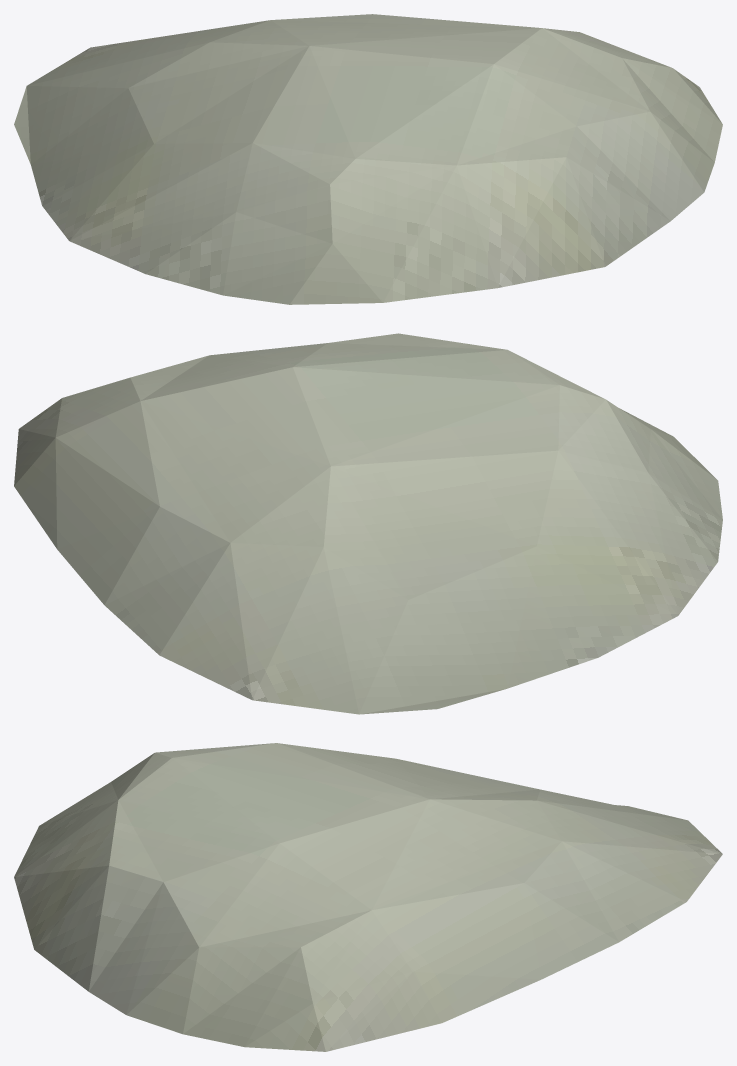
The model's file is hill_green_low.glb.
3 views of the same model, one above another, from view 1: azimuth 30°, elevation 25°; view 2: azimuth 150°, elevation 25°; view 3: azimuth 270°, elevation 25° (orthographic). The views are drawn at different scales.
Parts seen in each view (by area): view 1: hill_green_low; view 2: hill_green_low; view 3: hill_green_low.
Part boxes in pixels (x1,y1,x2,y2): hill_green_low: (14,14,722,304); hill_green_low: (14,333,722,714); hill_green_low: (14,743,722,1051).
Size of the model in its own units: 20.11 by 3.65 by 19.85.
1 material, 1 textured.
